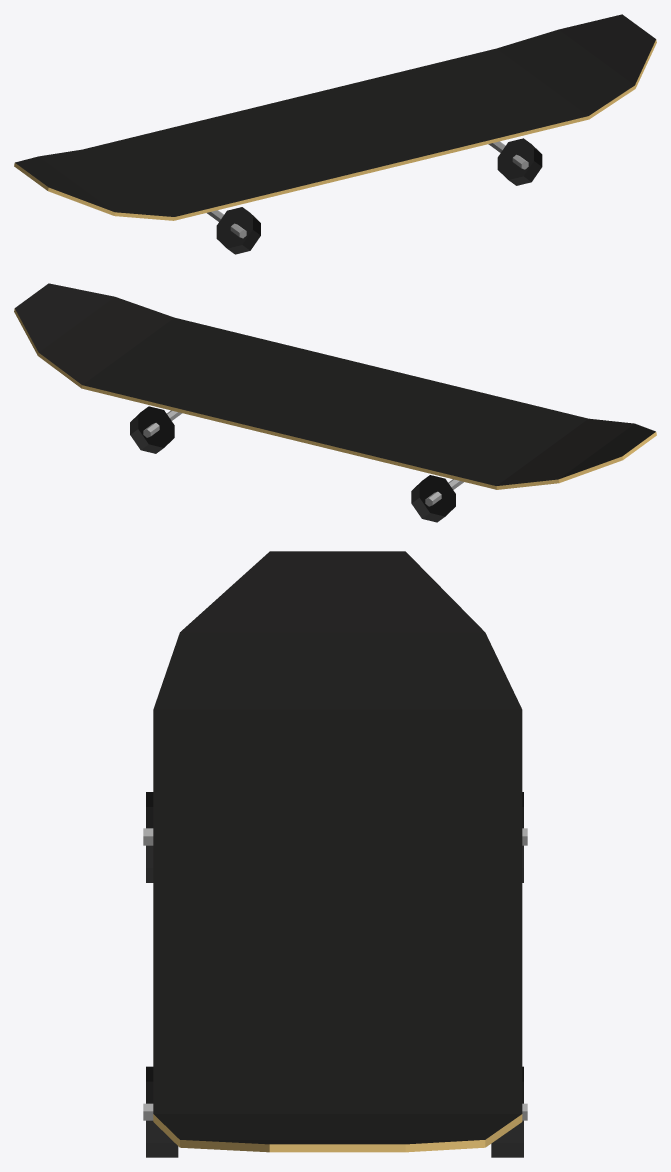
The model's file is Skateboard.fbx.
The picture shows the model from 3 angles, top to bottom: view 1: azimuth 30°, elevation 25°; view 2: azimuth 150°, elevation 25°; view 3: azimuth 270°, elevation 25°; orthographic projection. The views are drawn at different scales.
Parts seen in each view (by area): view 1: Plane; view 2: Plane; view 3: Plane.
Boxes of the visible parts, box(x1,y1,x2,y2) form: Plane: box(14, 14, 656, 254); Plane: box(14, 283, 656, 522); Plane: box(143, 551, 527, 1157).
Bounding box in the file's own units: 444 × 57.39 × 121.
